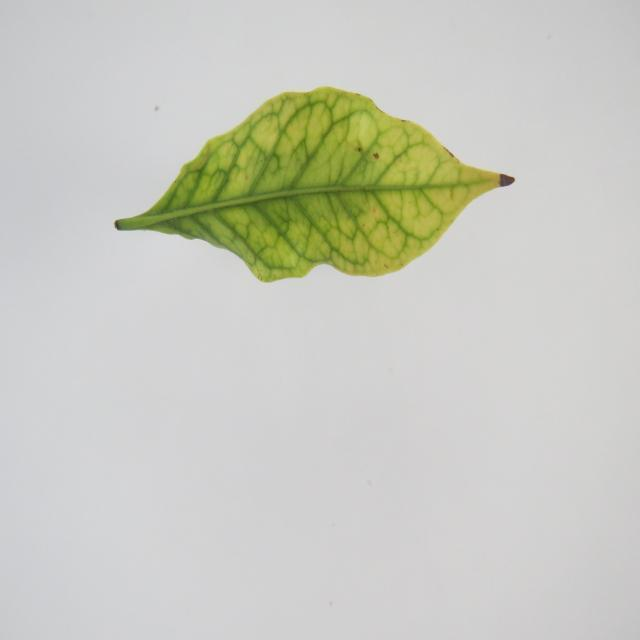DeficienciaNutricional-Hierro: (131, 88, 506, 275)
